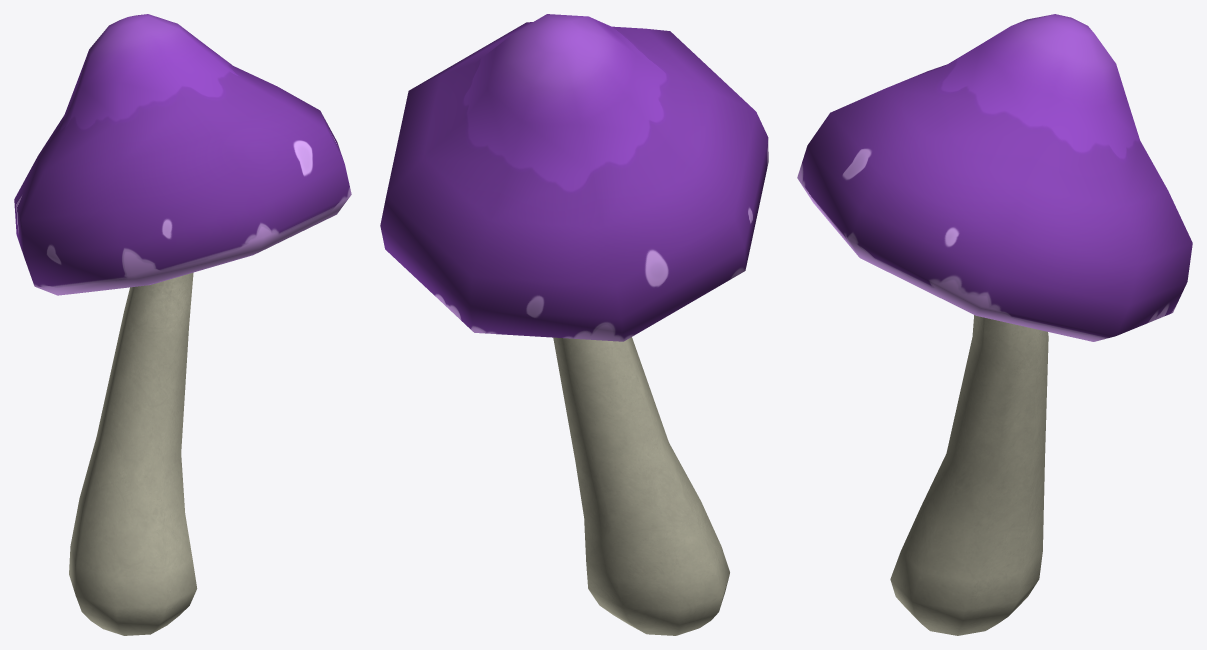
Rendered from seta normal.fbx.
3 views of the same model, side by side, from view 1: azimuth 30°, elevation 25°; view 2: azimuth 150°, elevation 25°; view 3: azimuth 270°, elevation 25° (orthographic). The views are drawn at different scales.
Visible parts, largest first — view 1: seta1/3, tronco seta1/3; view 2: seta1/3, tronco seta1/3; view 3: seta1/3, tronco seta1/3.
Part boxes in pixels (bbox=[...]): seta1/3: bbox=[14, 14, 351, 295]; tronco seta1/3: bbox=[69, 272, 197, 635]; seta1/3: bbox=[380, 14, 768, 341]; tronco seta1/3: bbox=[553, 337, 729, 635]; seta1/3: bbox=[797, 14, 1192, 341]; tronco seta1/3: bbox=[890, 315, 1048, 635].
Bounding box in the file's own units: 176 × 305 × 173.
